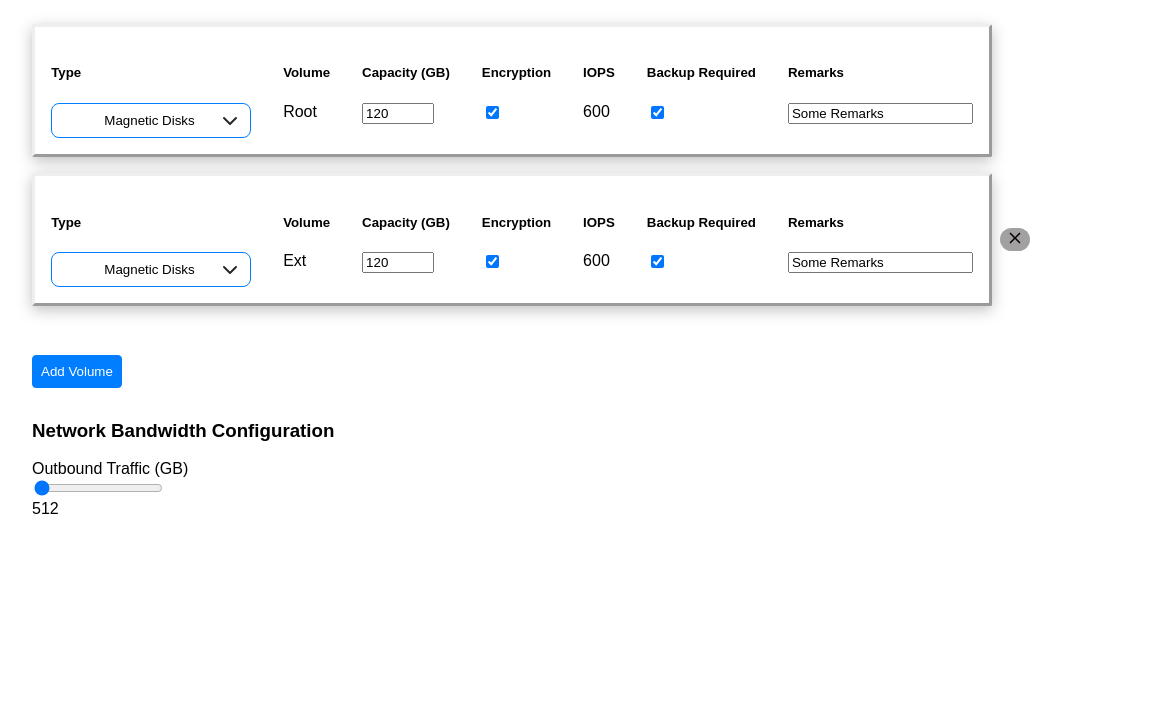
Scenario: Testing the Storage and Network Tab Components › Add Volume button functionality
The width and height of the screenshot is (1152, 720).
Click the button "Add Volume" at {"x": 77, "y": 371}, box [32,355,122,388]
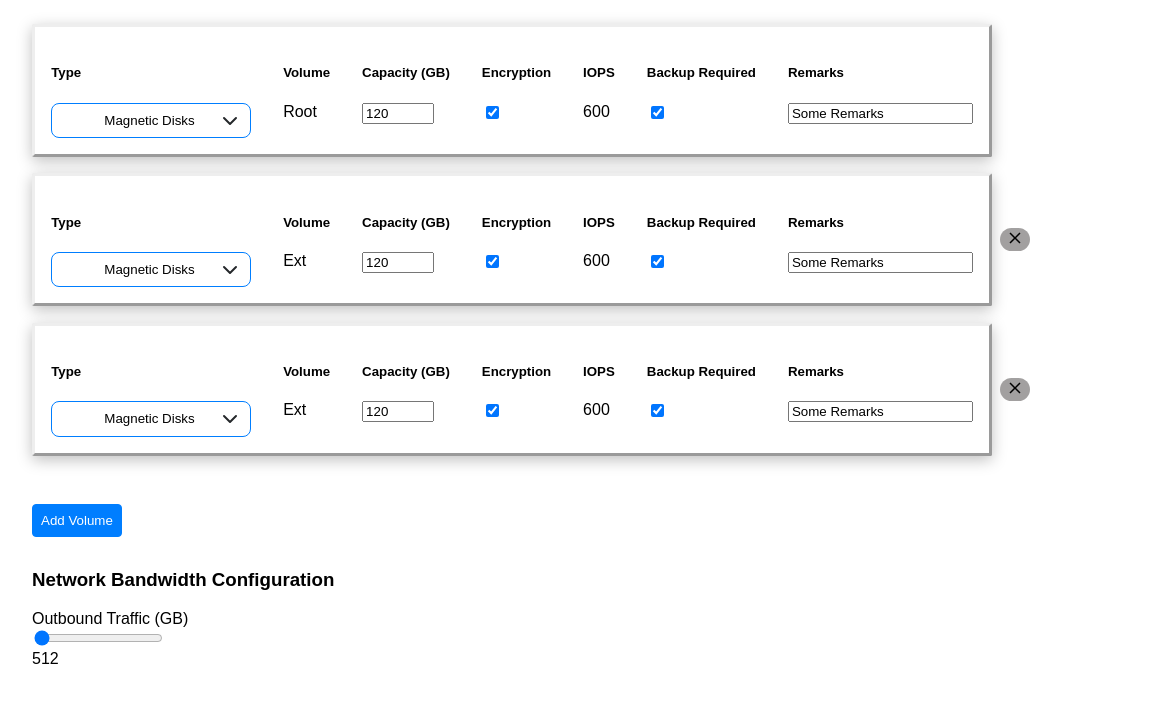
Expected: the number of pictures with alt text "close" is 2, [1006,229,1024,247]; [1006,379,1024,397]
